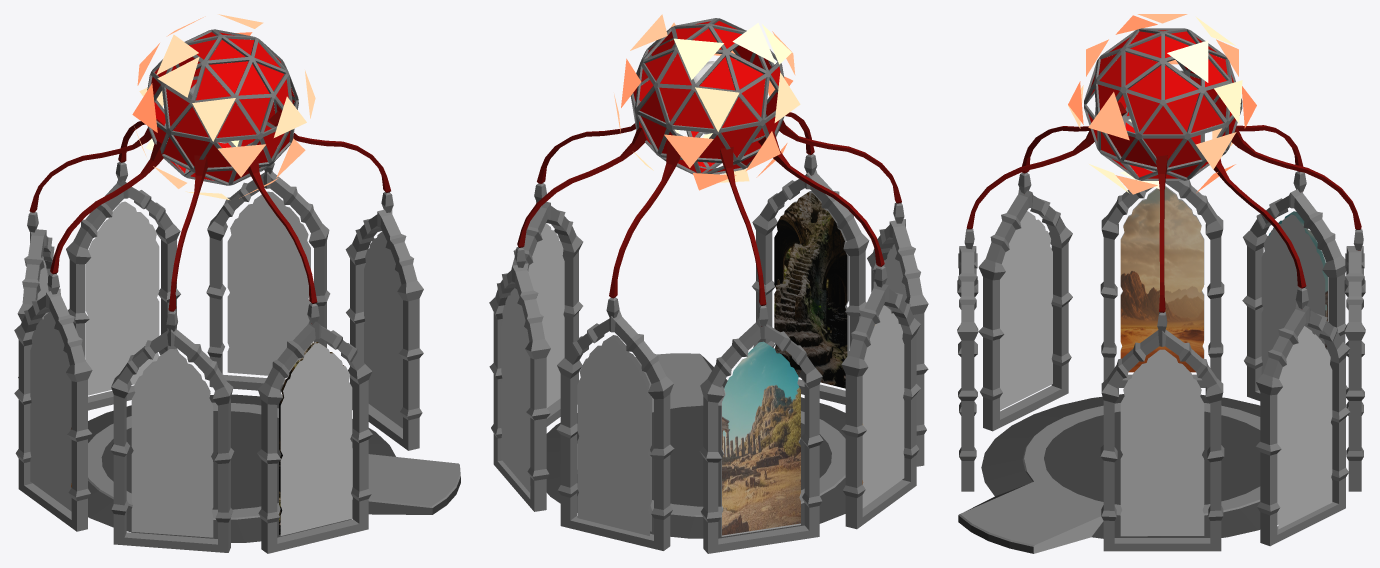
File: 016 Mysterious Contraption.fbx
The picture shows the model from 3 angles, left to right: view 1: azimuth 30°, elevation 25°; view 2: azimuth 150°, elevation 25°; view 3: azimuth 270°, elevation 25°; orthographic projection.
Parts seen in each view (by area): view 1: core glass, Circle, Cube.023, Cube.021, Cube.014, Cube.001, Cube.002, Cube.011, Cube.004, Cube.006, Cube.022, core frame (+9 smaller); view 2: core glass, Cube.009, Cube.026, Circle, Cube.003, Cube, Cube.008, Cube.004, Cube.022, core frame, Cube.013, Cube.002 (+12 smaller); view 3: Circle, core glass, Cube.027, Cube.005, Cube.025, Cube.011, Cube.012, Cube.013, Cube.006, core frame, Cube.008, Cube.004 (+9 smaller).
Boxes of the visible parts, left/top/right/bottom form: core glass: left=132, top=14, right=315, bottom=199; Circle: left=88, top=394, right=460, bottom=542; Cube.023: left=131, top=350, right=213, bottom=537; Cube.021: left=280, top=343, right=352, bottom=535; Cube.014: left=227, top=191, right=308, bottom=375; Cube.001: left=87, top=201, right=159, bottom=394; Cube.002: left=257, top=321, right=372, bottom=553; Cube.011: left=110, top=328, right=234, bottom=552; Cube.004: left=14, top=288, right=92, bottom=531; Cube.006: left=345, top=209, right=423, bottom=450; Cube.022: left=30, top=312, right=71, bottom=511; core frame: left=147, top=29, right=298, bottom=185; core glass: left=614, top=14, right=800, bottom=190; Cube.009: left=722, top=341, right=800, bottom=535; Cube.026: left=577, top=339, right=649, bottom=535; Circle: left=546, top=353, right=845, bottom=538; Cube.003: left=774, top=192, right=847, bottom=388; Cube: left=556, top=310, right=674, bottom=550; Cube.008: left=699, top=318, right=823, bottom=553; Cube.004: left=841, top=281, right=920, bottom=529; Cube.022: left=862, top=305, right=904, bottom=508; core frame: left=630, top=18, right=784, bottom=174; Cube.013: left=489, top=263, right=550, bottom=511; Cube.002: left=752, top=170, right=869, bottom=404; Circle: left=958, top=394, right=1260, bottom=553; core glass: left=1068, top=14, right=1256, bottom=194; Cube.027: left=1120, top=350, right=1204, bottom=536; Cube.005: left=1120, top=187, right=1203, bottom=372; Cube.025: left=1278, top=329, right=1332, bottom=529; Cube.011: left=978, top=188, right=1072, bottom=431; Cube.012: left=1000, top=211, right=1052, bottom=410; Cube.013: left=1256, top=302, right=1349, bottom=546; Cube.006: left=1100, top=329, right=1224, bottom=551; core frame: left=1084, top=28, right=1242, bottom=180; Cube.008: left=1242, top=189, right=1347, bottom=400; Cube.004: left=1100, top=179, right=1224, bottom=387.
Bounding box in the file's own units: 1359 × 1598 × 1353.
